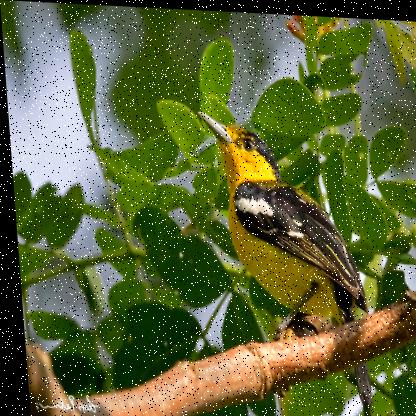Burung: (197, 108, 371, 403)
